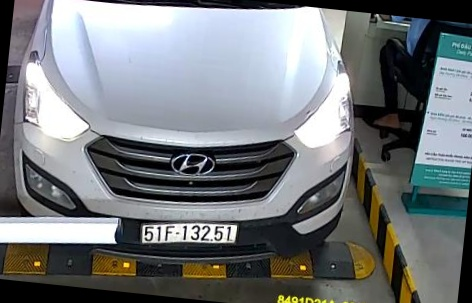plate: (134, 221, 241, 251)
